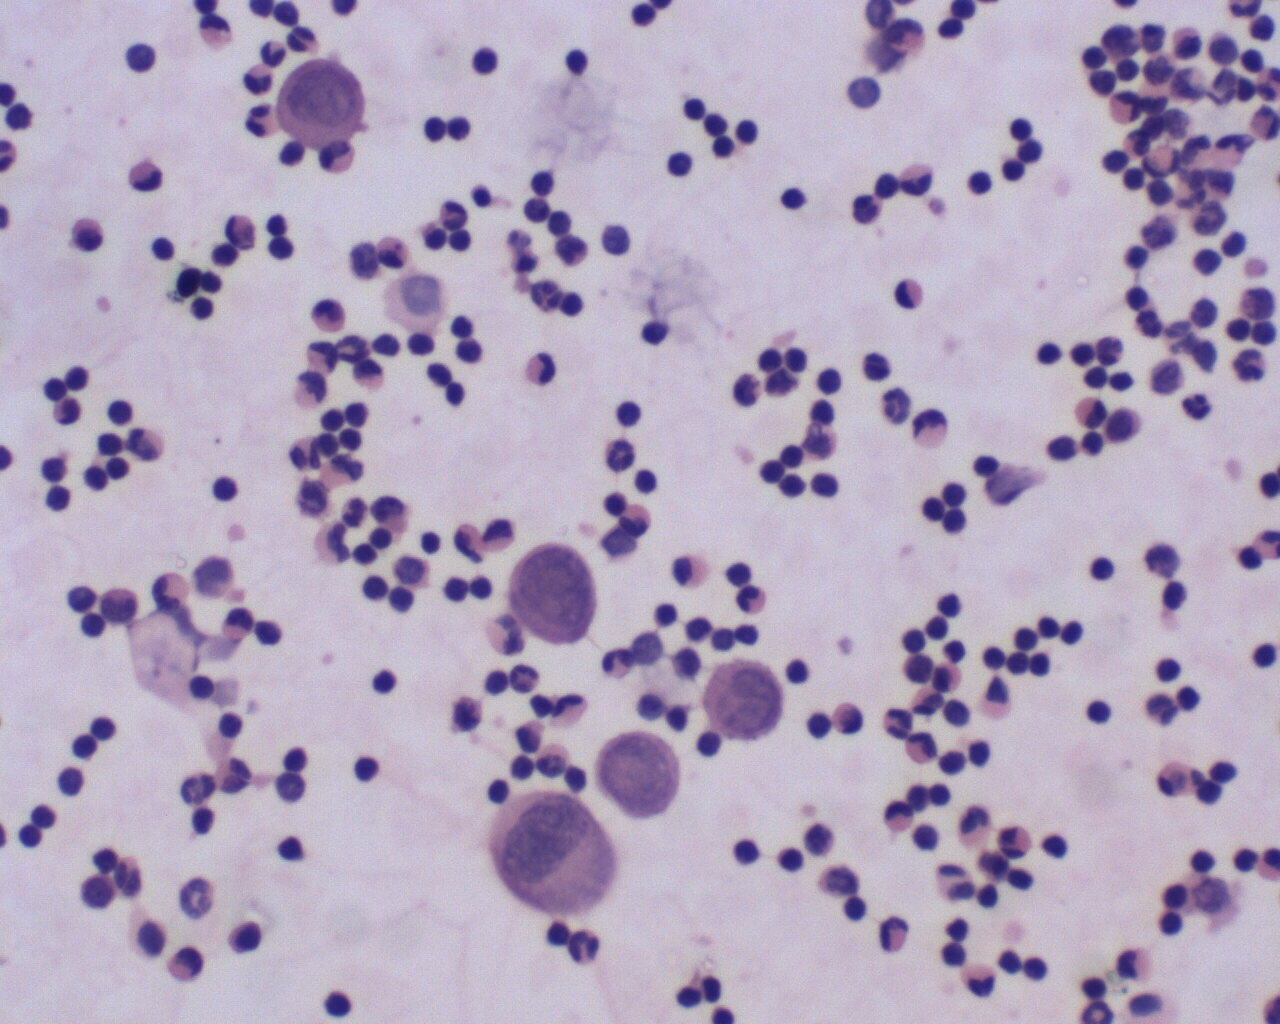ab: (479, 790, 627, 911), (504, 543, 598, 645), (278, 53, 372, 148), (590, 728, 685, 820), (698, 658, 788, 745)
lymph: (274, 825, 313, 865), (318, 986, 359, 1024), (207, 467, 245, 508), (365, 664, 404, 701), (466, 44, 504, 83), (82, 709, 118, 748), (1084, 551, 1120, 588), (660, 147, 697, 184), (1078, 697, 1114, 730), (104, 395, 138, 430)
neutro: (876, 912, 916, 960), (875, 383, 915, 428), (241, 99, 282, 141), (564, 926, 604, 965), (1179, 389, 1221, 425), (525, 276, 563, 315), (604, 436, 639, 473), (880, 700, 913, 740), (434, 195, 471, 230)
